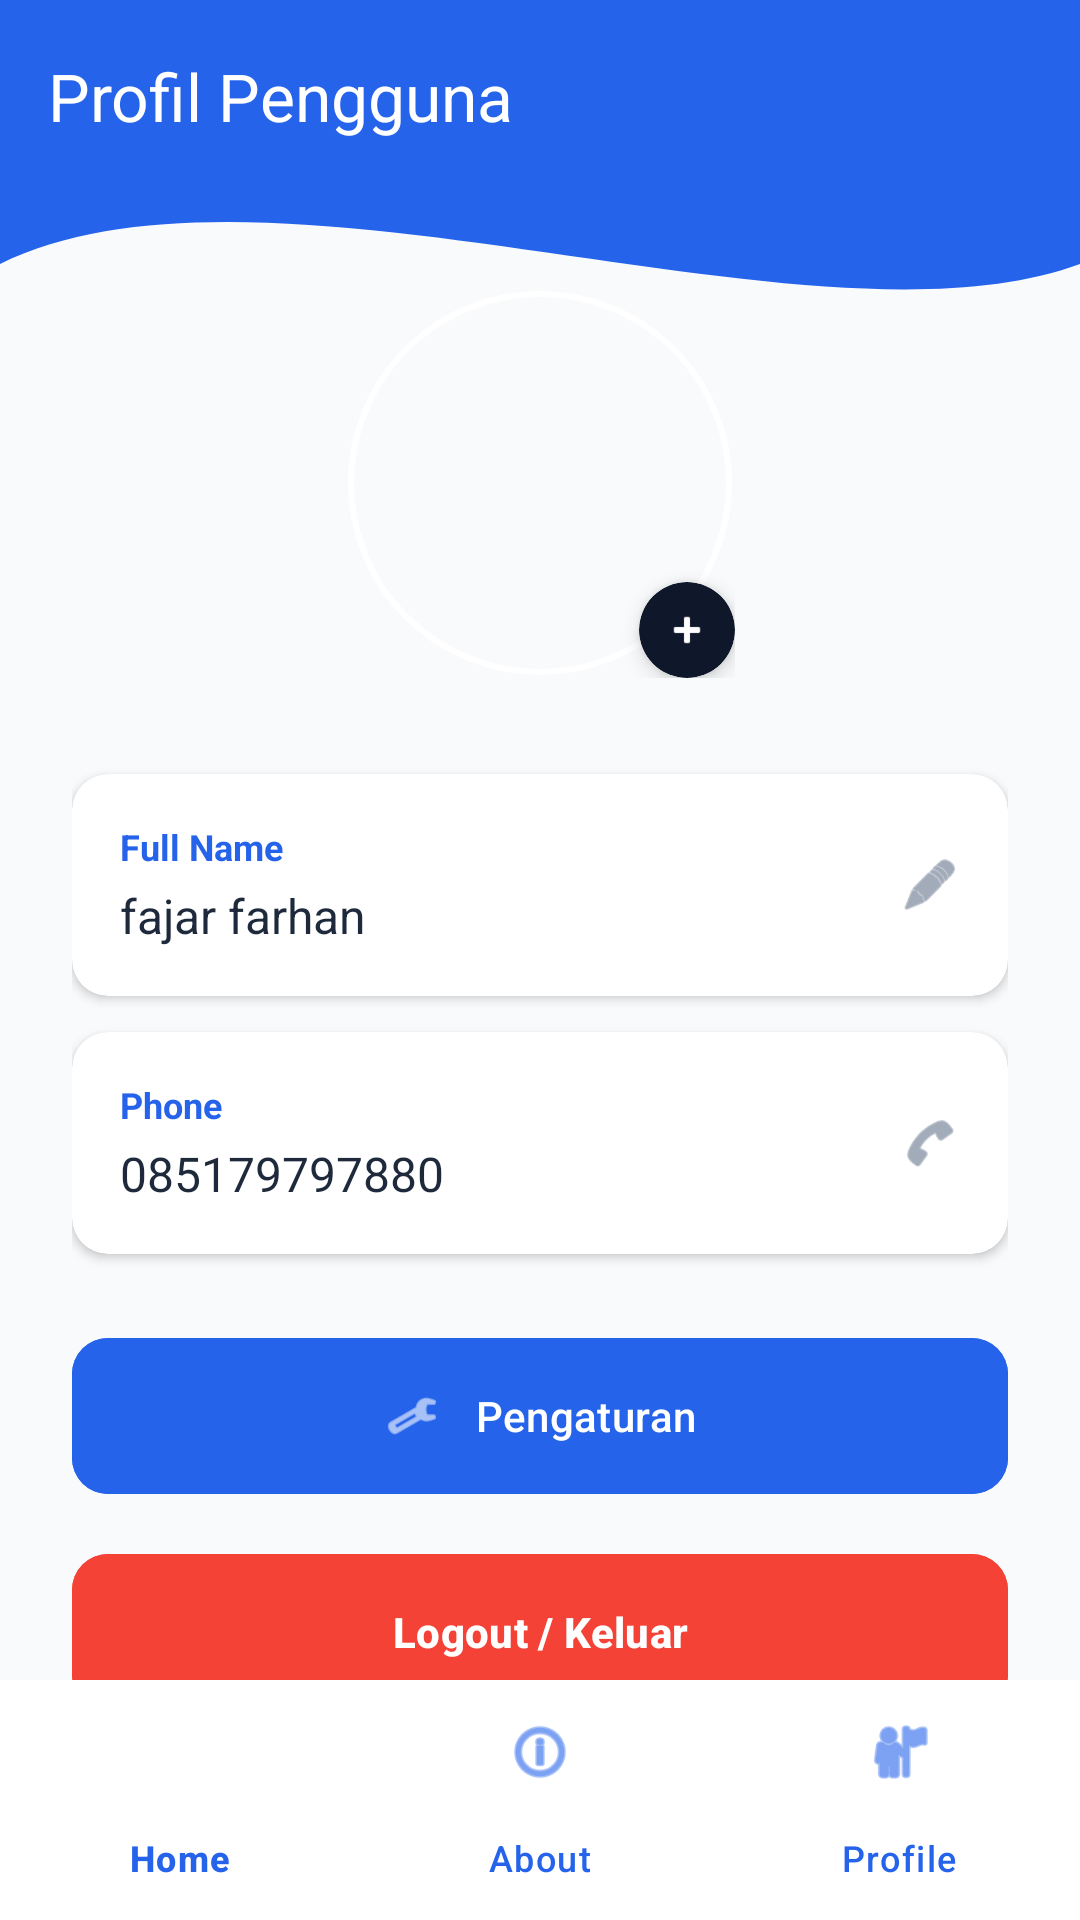

Point at icon controls on the screen. Image size 1080 × 1920, points as (x,y).
add: (687,630)
Call: (930,1143)
Edit: (930,884)
